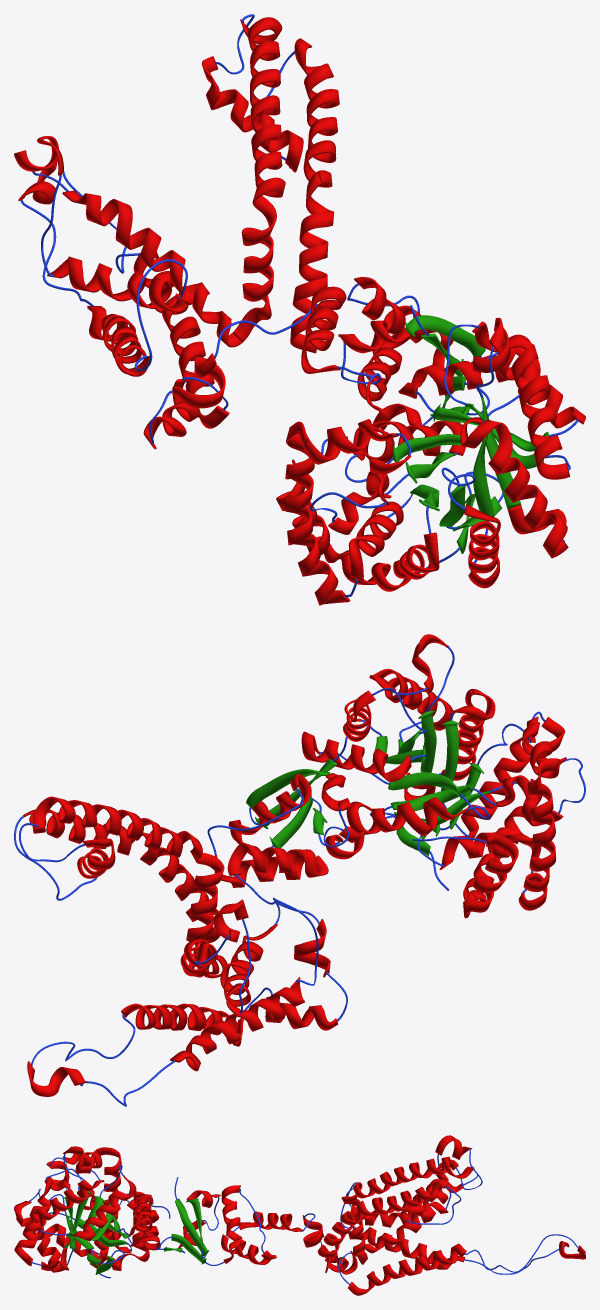
File: voltage gated potassium channel.fbx
3 renders of one model, top to bottom at view 1: azimuth 30°, elevation 25°; view 2: azimuth 150°, elevation 25°; view 3: azimuth 270°, elevation 25°, orthographic. The views are drawn at different scales.
Visible parts, largest first — view 1: 3lut_B_Helix16, 3lut_A_Helix14, 3lut_B_Helix19, 3lut_A_Helix6, 3lut_B_Helix13, 3lut_A_Helix3, 3lut_B_Helix18, 3lut_B_Helix11, 3lut_B_Helix8, 3lut_B_Helix17, 3lut_B_Helix15, 3lut_B_Helix10 (+22 smaller); view 2: 3lut_B_Helix16, 3lut_A_Helix14, 3lut_B_Helix10, 3lut_B_Helix8, 3lut_A_Helix8, 3lut_B_Helix5, 3lut_A_Helix1, 3lut_A_Helix6, 3lut_B_Helix11, 3lut_A_Helix19, 3lut_B_Helix15, 3lut_A_Helix10 (+25 smaller); view 3: 3lut_B_Helix16, 3lut_B_Helix8, 3lut_B_Helix18, 3lut_A_Helix7, 3lut_A_Helix3, 3lut_A_Helix6, 3lut_B_Helix10, 3lut_B_Helix19, 3lut_B_Helix3, 3lut_A_Helix14, 3lut_A_Helix1, 3lut_B_Helix13 (+27 smaller).
Part boxes in pixels (x1=…): 3lut_B_Helix16: x1=240, y1=17, x2=285, y2=235; 3lut_A_Helix14: x1=283, y1=421, x2=350, y2=605; 3lut_B_Helix19: x1=290, y1=171, x2=334, y2=353; 3lut_A_Helix6: x1=497, y1=334, x2=570, y2=479; 3lut_B_Helix13: x1=62, y1=190, x2=185, y2=291; 3lut_A_Helix3: x1=488, y1=423, x2=568, y2=558; 3lut_B_Helix18: x1=294, y1=38, x2=339, y2=187; 3lut_B_Helix11: x1=47, y1=256, x2=193, y2=312; 3lut_B_Helix8: x1=133, y1=252, x2=229, y2=428; 3lut_B_Helix17: x1=202, y1=56, x2=303, y2=172; 3lut_B_Helix15: x1=232, y1=226, x2=273, y2=342; 3lut_B_Helix10: x1=87, y1=306, x2=149, y2=376; 3lut_B_Helix16: x1=32, y1=796, x2=212, y2=866; 3lut_A_Helix14: x1=518, y1=758, x2=559, y2=910; 3lut_B_Helix10: x1=170, y1=977, x2=304, y2=1071; 3lut_B_Helix8: x1=121, y1=1003, x2=243, y2=1046; 3lut_A_Helix8: x1=301, y1=731, x2=411, y2=781; 3lut_B_Helix5: x1=227, y1=843, x2=328, y2=877; 3lut_A_Helix1: x1=461, y1=736, x2=535, y2=840; 3lut_A_Helix6: x1=369, y1=668, x2=453, y2=730; 3lut_B_Helix11: x1=220, y1=923, x2=277, y2=1016; 3lut_A_Helix19: x1=463, y1=834, x2=518, y2=918; 3lut_B_Helix15: x1=186, y1=855, x2=224, y2=976; 3lut_A_Helix10: x1=346, y1=801, x2=432, y2=836; 3lut_B_Helix16: x1=342, y1=1156, x2=474, y2=1203; 3lut_B_Helix8: x1=348, y1=1243, x2=466, y2=1295; 3lut_B_Helix18: x1=356, y1=1179, x2=448, y2=1216; 3lut_A_Helix7: x1=73, y1=1175, x2=136, y2=1241; 3lut_A_Helix3: x1=14, y1=1180, x2=52, y2=1266; 3lut_A_Helix6: x1=35, y1=1179, x2=104, y2=1233; 3lut_B_Helix10: x1=352, y1=1227, x2=464, y2=1269; 3lut_B_Helix19: x1=317, y1=1201, x2=362, y2=1272; 3lut_B_Helix3: x1=221, y1=1185, x2=242, y2=1263; 3lut_A_Helix14: x1=94, y1=1147, x2=121, y2=1256; 3lut_A_Helix1: x1=14, y1=1201, x2=64, y2=1272; 3lut_B_Helix13: x1=396, y1=1181, x2=463, y2=1239.
Size of what is drawn, in the model's own units: 63.15 by 57.2 by 169.
